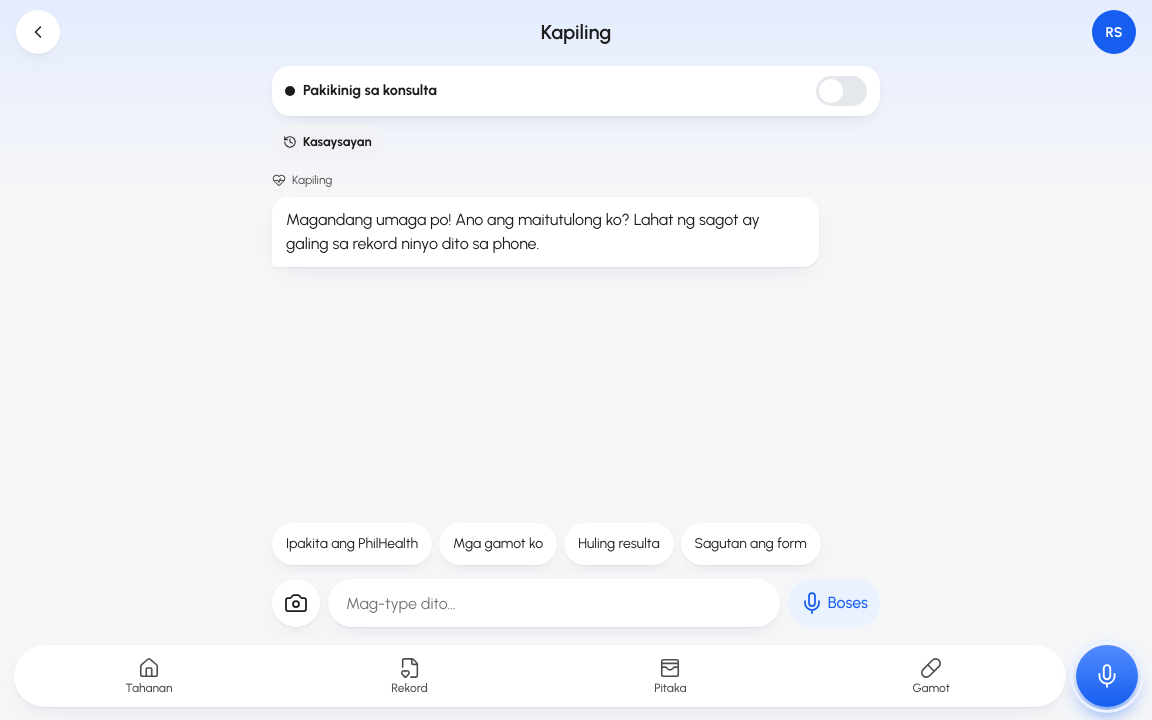
Test case: ChatPage › a scripted stream shows the steps, then the text, then collapses the steps
The width and height of the screenshot is (1152, 720).
Type "Ano ang gamot ko?" into the text box labelled "Mag-type dito…" at (554, 603), box [328,579,780,627]
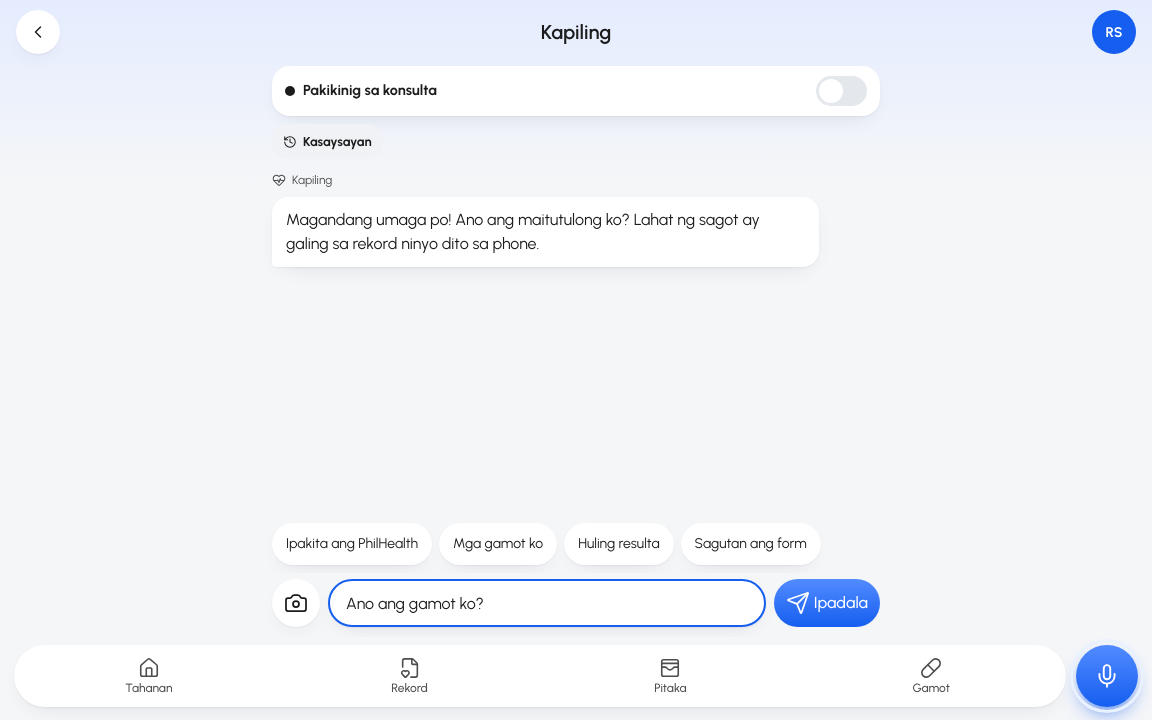
Click the button "Ipadala" at (827, 603), box [774,579,880,627]
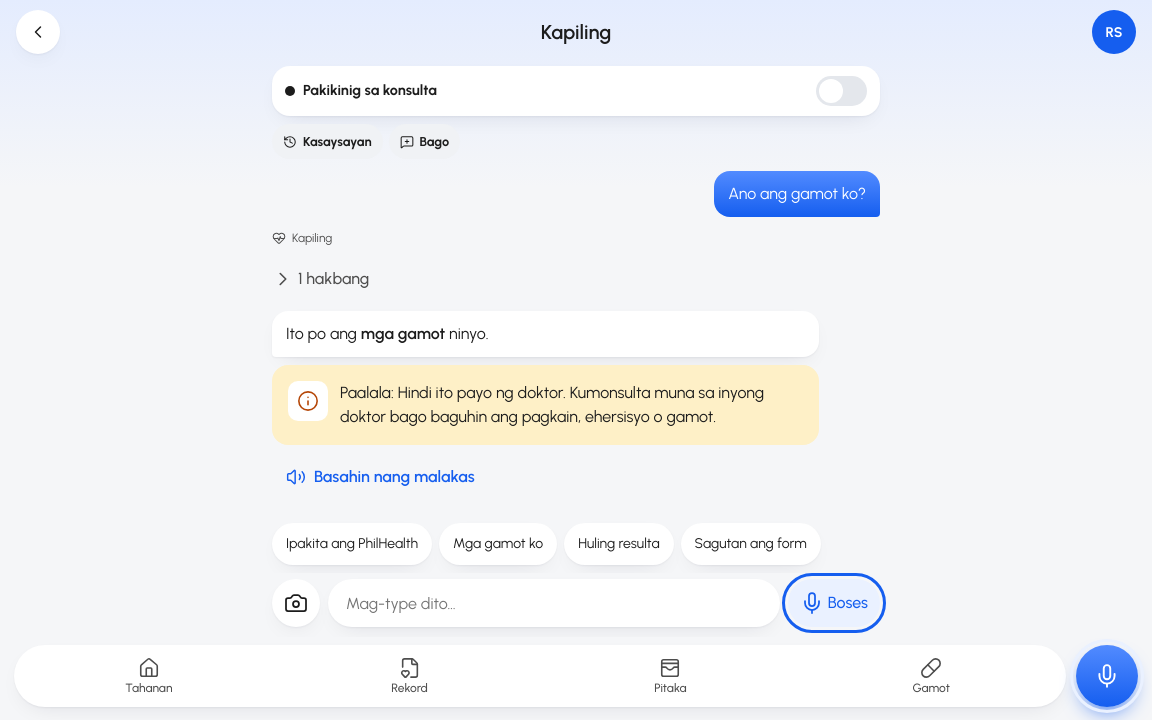
Check: the text "Ano ang gamot ko?" is shown, box [728,182,866,206]
Check: the text "mga gamot" is shown, box [361,324,445,343]
Check: the heading "1 hakbang" is shown, box [272,268,369,290]
